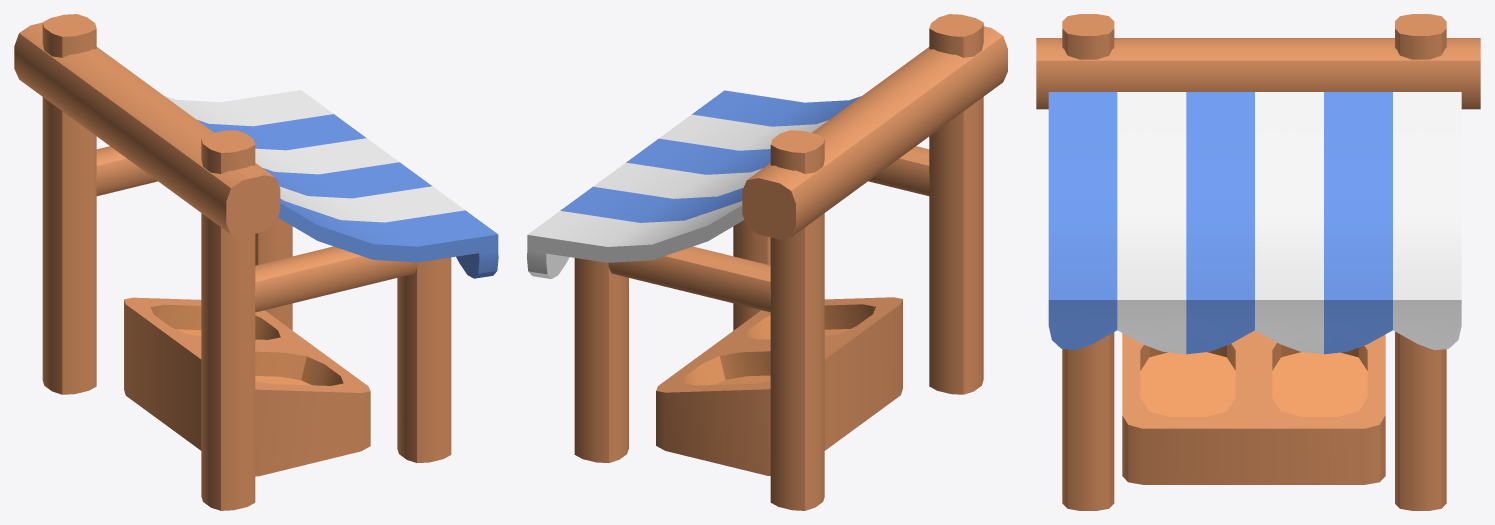
File: Market.fbx
The picture shows the model from 3 angles, left to right: view 1: azimuth 30°, elevation 25°; view 2: azimuth 150°, elevation 25°; view 3: azimuth 270°, elevation 25°; orthographic projection. The views are drawn at different scales.
Parts seen in each view (by area): view 1: Market; view 2: Market; view 3: Market.
Part boxes in pixels (x1=…): Market: x1=14, y1=14, x2=498, y2=510; Market: x1=527, y1=14, x2=1007, y2=510; Market: x1=1036, y1=14, x2=1480, y2=510.
Size of the model in its own units: 211 by 259 by 278.
